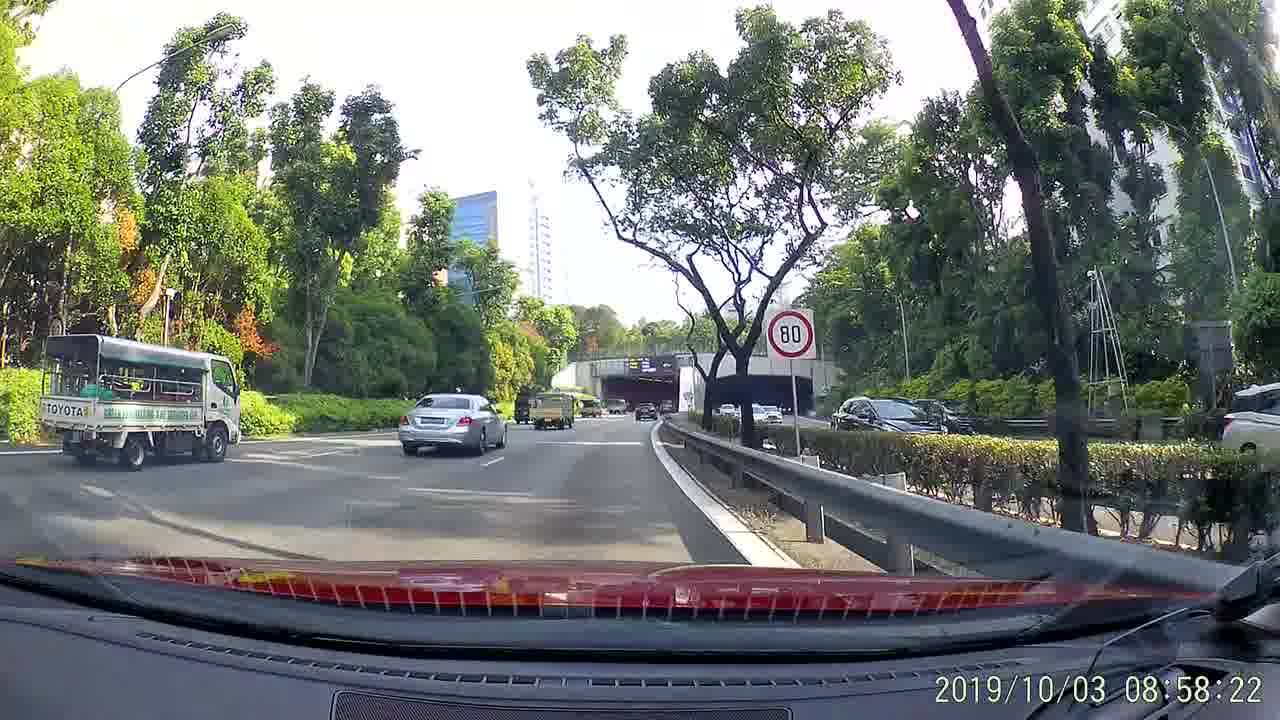car: (398, 393, 508, 456), (827, 395, 941, 437), (1218, 383, 1276, 457), (914, 397, 986, 434), (636, 400, 661, 422), (758, 405, 783, 421), (717, 402, 738, 416)
